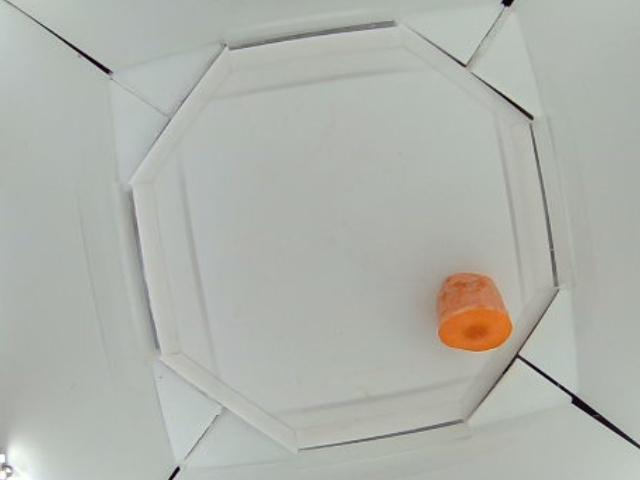Carrot: (435, 272, 514, 353)
